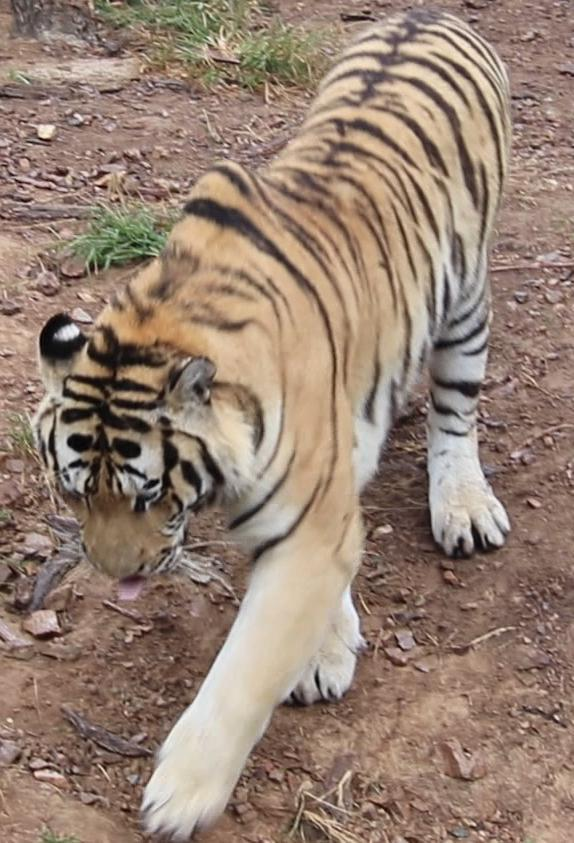tiger: (32, 12, 510, 837)
